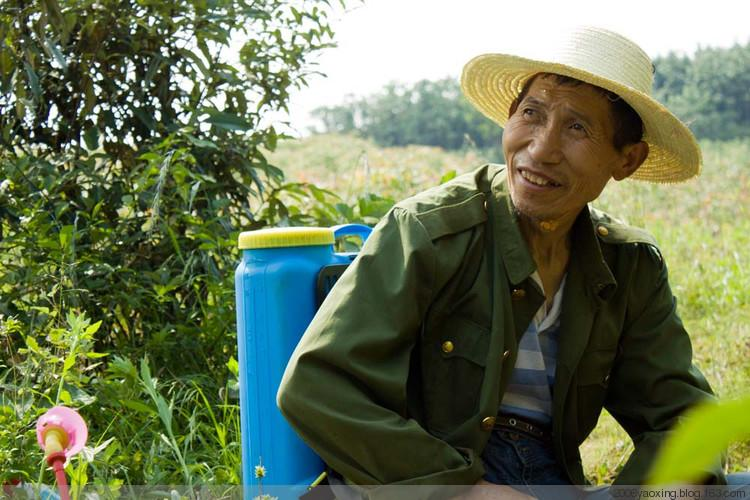berrl: (231, 223, 357, 500)
